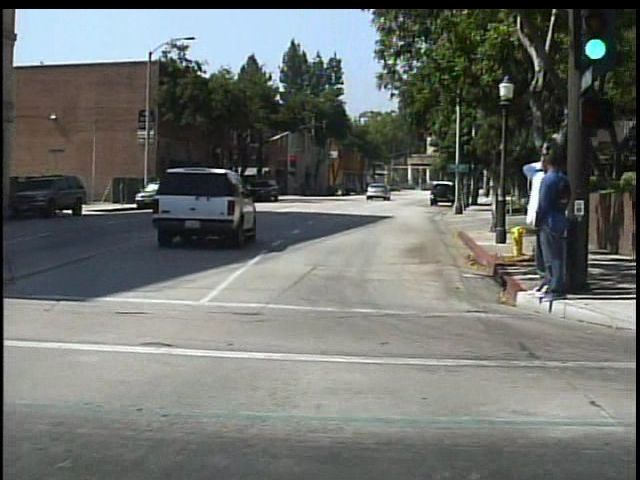person: (519, 151, 559, 298), (533, 151, 570, 304), (334, 178, 346, 197)
